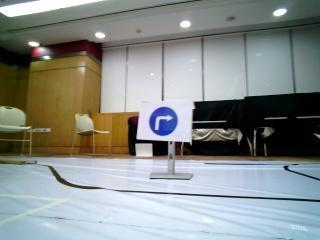right: (136, 99, 190, 141)
